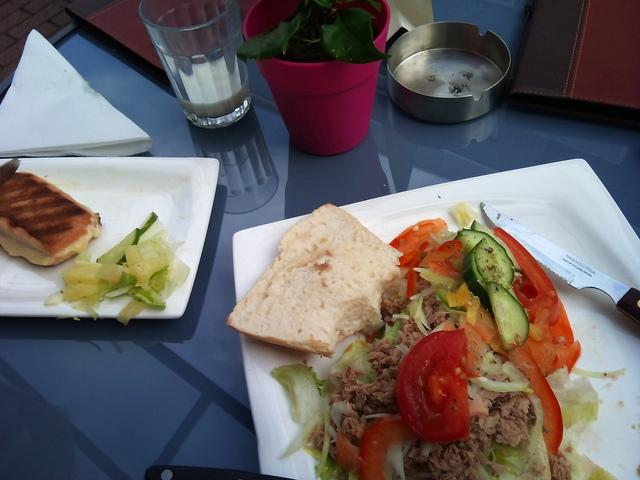cucumber: (463, 238, 509, 312), (453, 229, 514, 284), (486, 281, 530, 352), (96, 228, 140, 266), (138, 212, 158, 236)
tomato: (396, 328, 470, 444), (358, 413, 420, 480), (418, 240, 464, 283), (549, 298, 574, 346)
